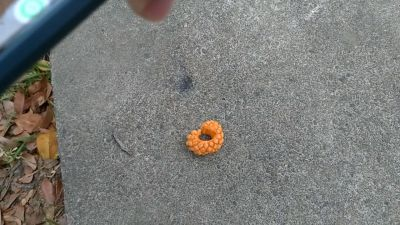eggs: (185, 119, 228, 158)
